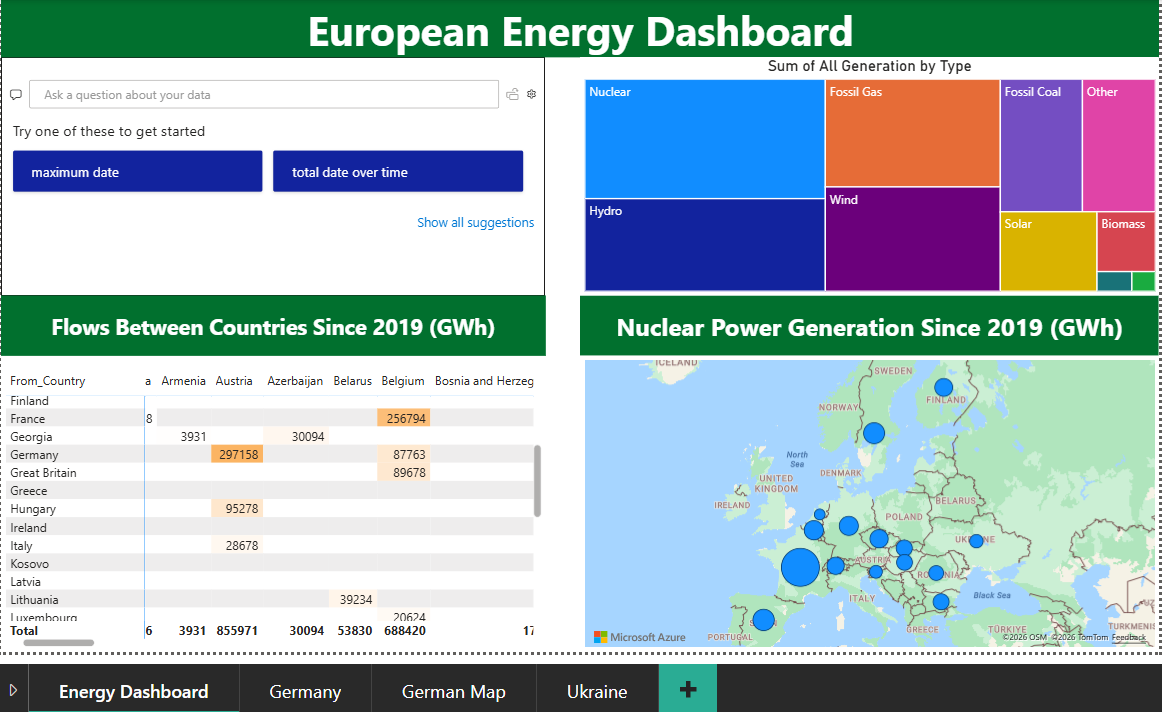

This screenshot's page, from the dashboard's own definition file:
{"tool":"powerbi","page":{"name":"Energy Dashboard","canvas":[1280,720],"ordinal":0},"visuals":[{"type":"shape","box":[640,326.7,640,66.7],"z":0},{"type":"qnaVisual","box":[0,63.3,601.7,263.3],"z":1000},{"type":"shape","box":[0,0,1280,63.3],"z":2000},{"type":"shape","box":[0,326.7,601.7,66.7],"z":3000},{"type":"azureMap","fields":{"Category":["Generation_Capacity.Country"],"Size":["Sum(Generation_Capacity.Generation_GWh)"]},"box":[640,393.3,640,326.7],"z":4000},{"type":"pivotTable","fields":{"Rows":["Cross_Border_Flows.From_Country"],"Columns":["Cross_Border_Flows.To_Country"],"Values":["Sum(Cross_Border_Flows.Flow_GWh)"]},"box":[0,405,601.7,315],"z":5000},{"type":"treemap","title":"Sum of All Generation by Type","fields":{"Values":["Sum(Generation_Capacity.Generation_GWh)"],"Group":["Generation_Capacity.Energy_Type"]},"box":[640,63.3,640,263.3],"z":6000}]}

Visuals, with their boxes on the page's 1280x720 design canvas (x1, y1, x2, y2). These are canvas units, not pixel positions in the 1162x712 screenshot, which may show the page scaled, cropped or inside an application window:
shape: 640/327/1280/393
qnaVisual: 0/63/602/327
shape: 0/0/1280/63
shape: 0/327/602/393
azureMap - Generation_Capacity.Country x Sum(Generation_Capacity.Generation_GWh): 640/393/1280/720
pivotTable - Cross_Border_Flows.From_Country x Cross_Border_Flows.To_Country: 0/405/602/720
"Sum of All Generation by Type" treemap: 640/63/1280/327
